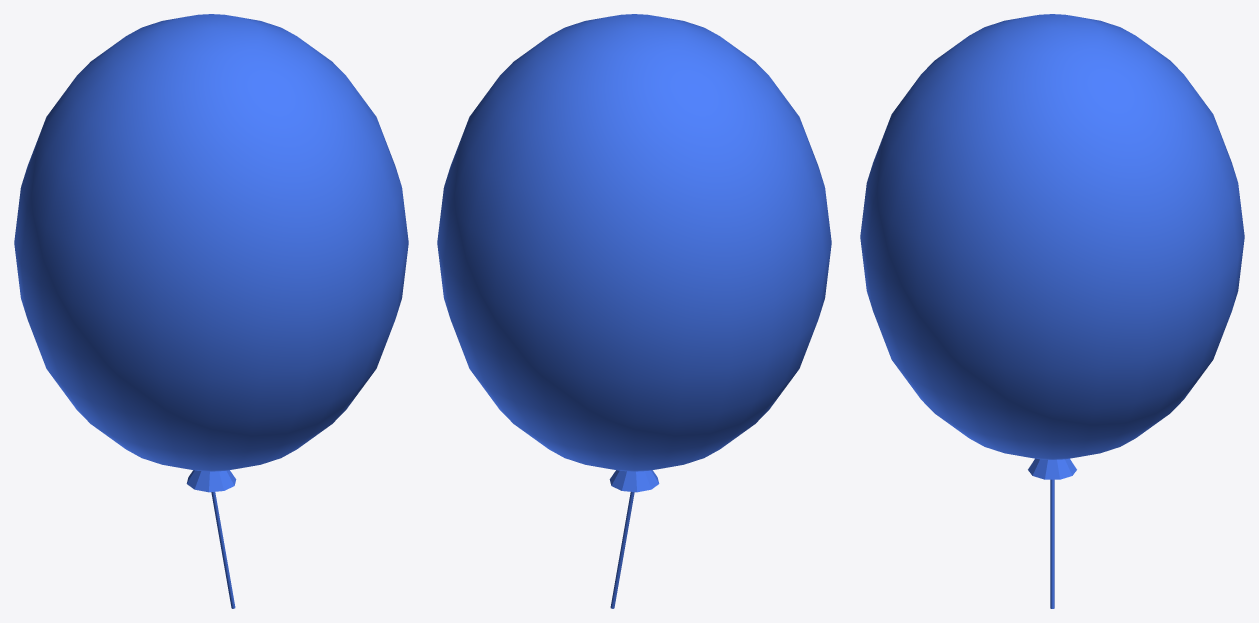
Rendered from balloon_blue.glb.
3 renders of one model, left to right at view 1: azimuth 30°, elevation 25°; view 2: azimuth 150°, elevation 25°; view 3: azimuth 270°, elevation 25°, orthographic. The views are drawn at different scales.
Visible parts, largest first — view 1: SM_LatexBalloon; view 2: SM_LatexBalloon; view 3: SM_LatexBalloon.
Part boxes in pixels (x1,y1,x2,y2): SM_LatexBalloon: (14, 14, 408, 608); SM_LatexBalloon: (437, 14, 831, 608); SM_LatexBalloon: (860, 14, 1244, 608).
Size of the model in its own units: 0.28 by 0.4583 by 0.28.
